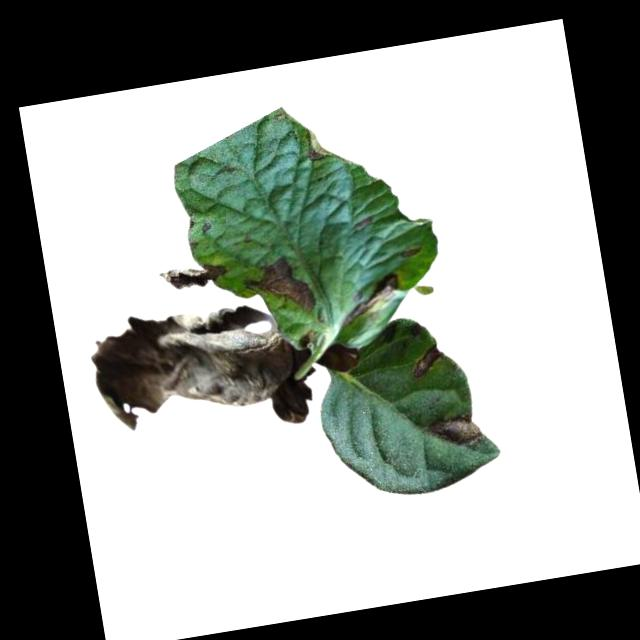Early_blight: (84, 296, 315, 454), (239, 253, 320, 322), (335, 271, 406, 331), (157, 256, 229, 295), (424, 412, 485, 456), (408, 339, 449, 381), (307, 142, 328, 162)
